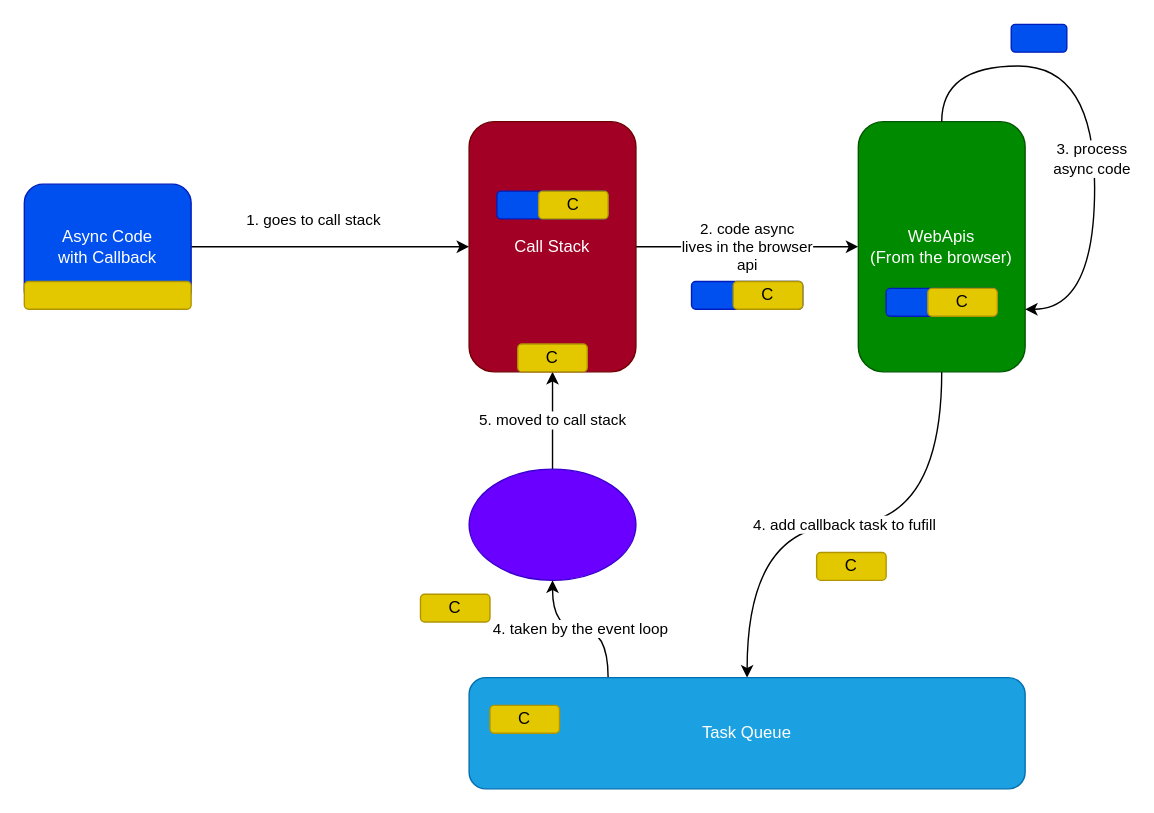
Some shapes in this 1154 by 813 pixel diagram are drawn without their labels. The centre of each missing label's shape, as x and y in pixels:
"Callback Function" belongs at (x=107, y=294).
"Event Loop" belongs at (x=552, y=524).
